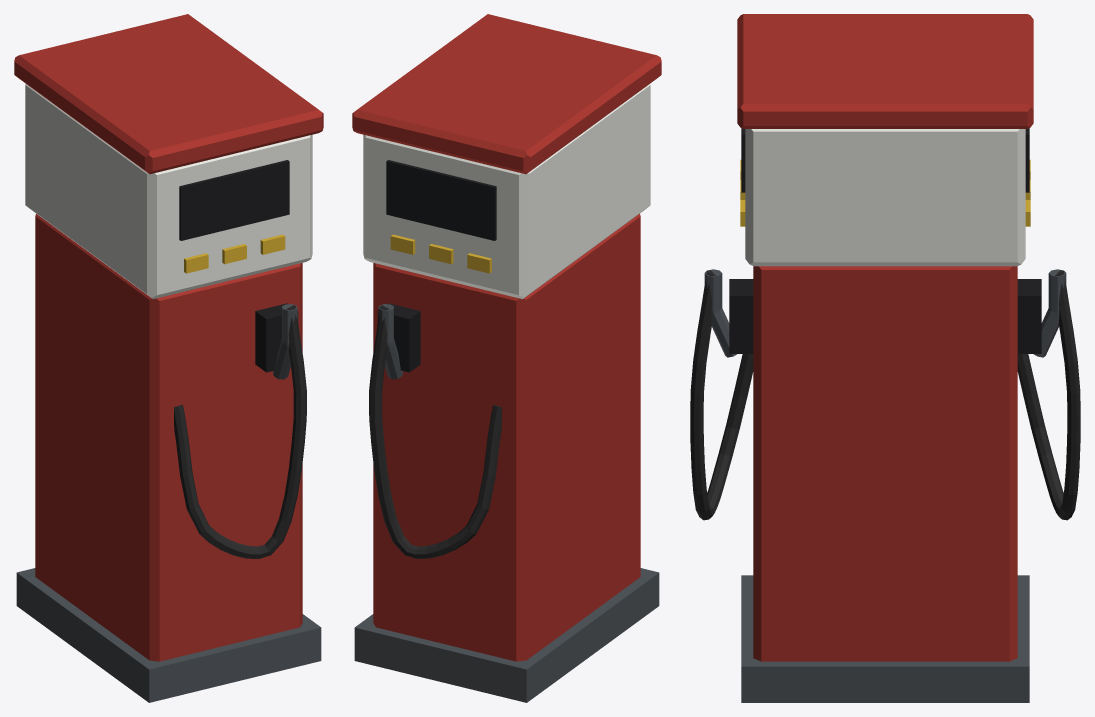
The model's file is pompe.glb.
3 renders of one model, left to right at view 1: azimuth 30°, elevation 25°; view 2: azimuth 150°, elevation 25°; view 3: azimuth 270°, elevation 25°, orthographic. The views are drawn at different scales.
Parts seen in each view (by area): view 1: body, cap, head, plinth, screen_f, hose_f, holster_f, buttons_f, nozzle_f; view 2: body, cap, head, plinth, screen_b, hose_b, holster_b, buttons_b, nozzle_b; view 3: body, head, cap, plinth, hose_f, hose_b, holster_f, holster_b, nozzle_f, nozzle_b.
Part boxes in pixels (<box>): body: <box>35,214,302,661</box>; cap: <box>14,14,323,174</box>; head: <box>25,84,312,299</box>; plinth: <box>16,568,321,702</box>; screen_f: <box>179,160,289,240</box>; hose_f: <box>174,305,306,558</box>; holster_f: <box>255,303,298,372</box>; buttons_f: <box>184,234,285,273</box>; nozzle_f: <box>273,304,297,379</box>; body: <box>373,214,640,661</box>; cap: <box>352,14,661,174</box>; head: <box>363,84,650,299</box>; plinth: <box>354,568,659,702</box>; screen_b: <box>386,160,496,240</box>; hose_b: <box>369,305,501,558</box>; holster_b: <box>377,303,420,372</box>; buttons_b: <box>390,234,491,273</box>; nozzle_b: <box>378,304,402,379</box>; body: <box>753,266,1017,661</box>; head: <box>745,129,1025,266</box>; cap: <box>737,14,1033,128</box>; plinth: <box>741,575,1029,702</box>; hose_f: <box>690,270,753,520</box>; hose_b: <box>1017,270,1080,520</box>; holster_f: <box>729,279,753,353</box>; holster_b: <box>1017,279,1041,353</box>; nozzle_f: <box>704,269,737,357</box>; nozzle_b: <box>1033,269,1066,357</box>.
Size of the model in its own units: 0.56 by 1.65 by 0.976.
Materials: 6 (6 with a texture image).
